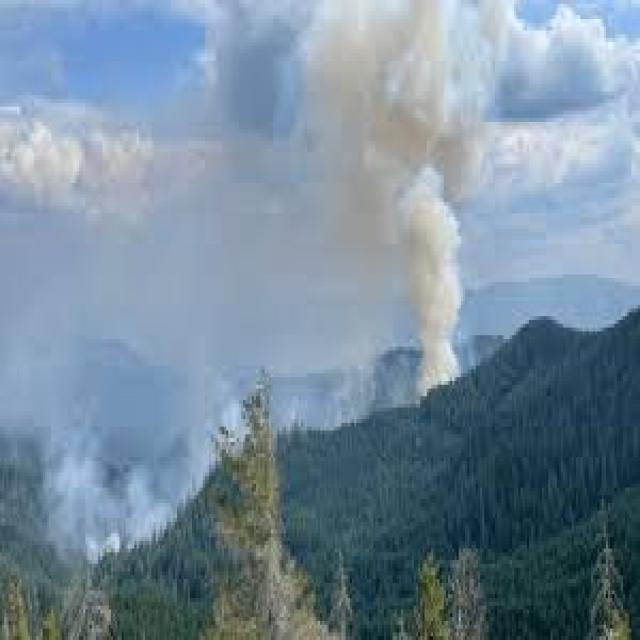Smoke: (387, 0, 480, 392), (42, 387, 218, 538), (34, 361, 138, 571)
